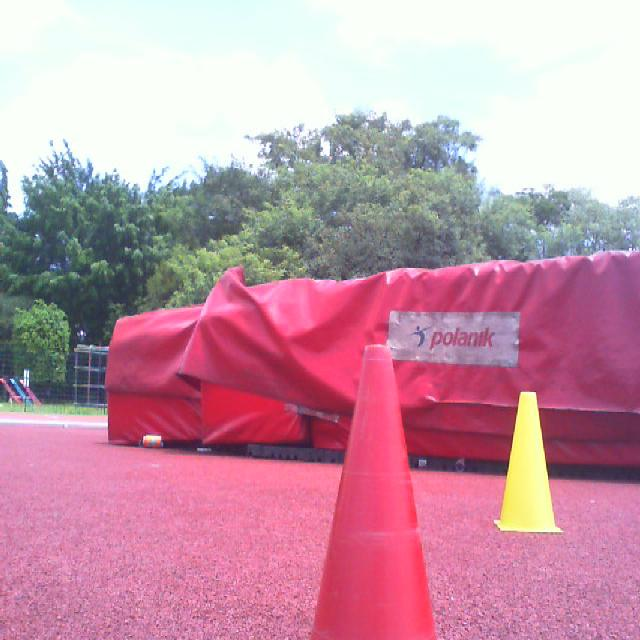cone: (310, 344, 435, 640), (494, 392, 564, 535)
